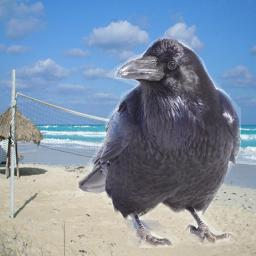Crow: (75, 35, 241, 248)
